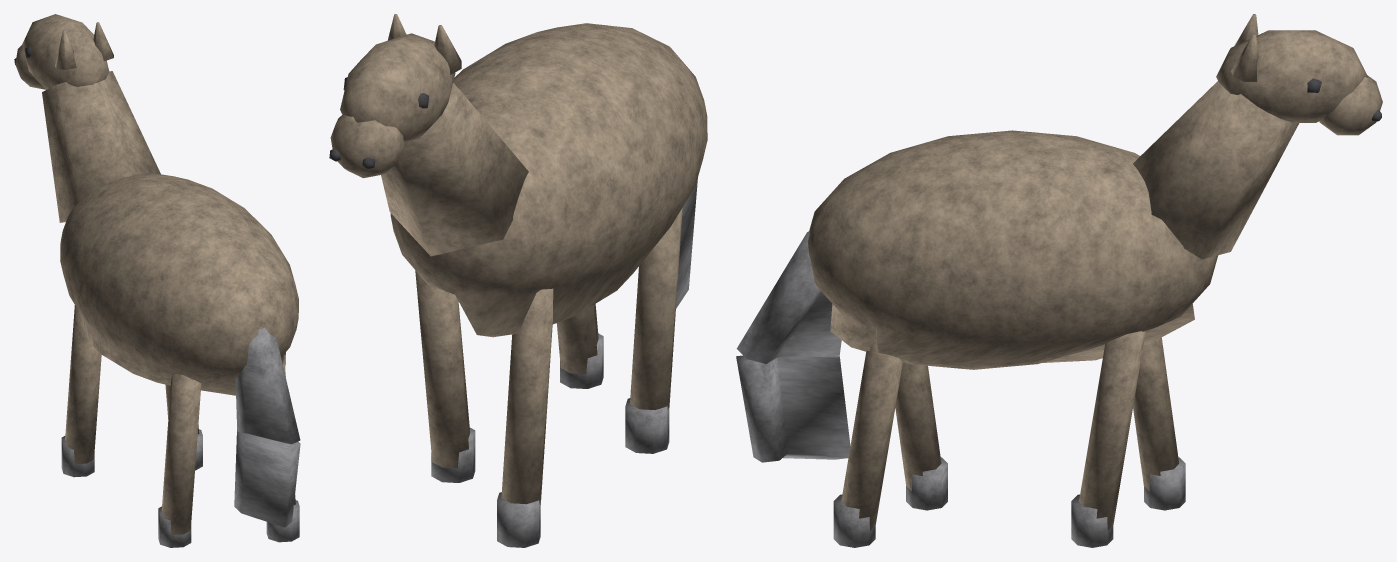
File: mob_kuda_walk3.obj
3 views of the same model, side by side, from view 1: azimuth 30°, elevation 25°; view 2: azimuth 150°, elevation 25°; view 3: azimuth 270°, elevation 25° (orthographic). The views are drawn at different scales.
Parts seen in each view (by area): view 1: mob_kuda; view 2: mob_kuda; view 3: mob_kuda.
Part boxes in pixels (x1,y1,x2,y2): mob_kuda: [14, 14, 300, 547]; mob_kuda: [329, 14, 707, 547]; mob_kuda: [736, 14, 1382, 547].
Size of the model in its own units: 0.8439 by 1.91 by 2.23.
Materials: 1 (1 with a texture image).
